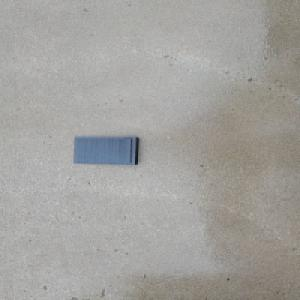PlasticPart: (71, 135, 140, 165)
